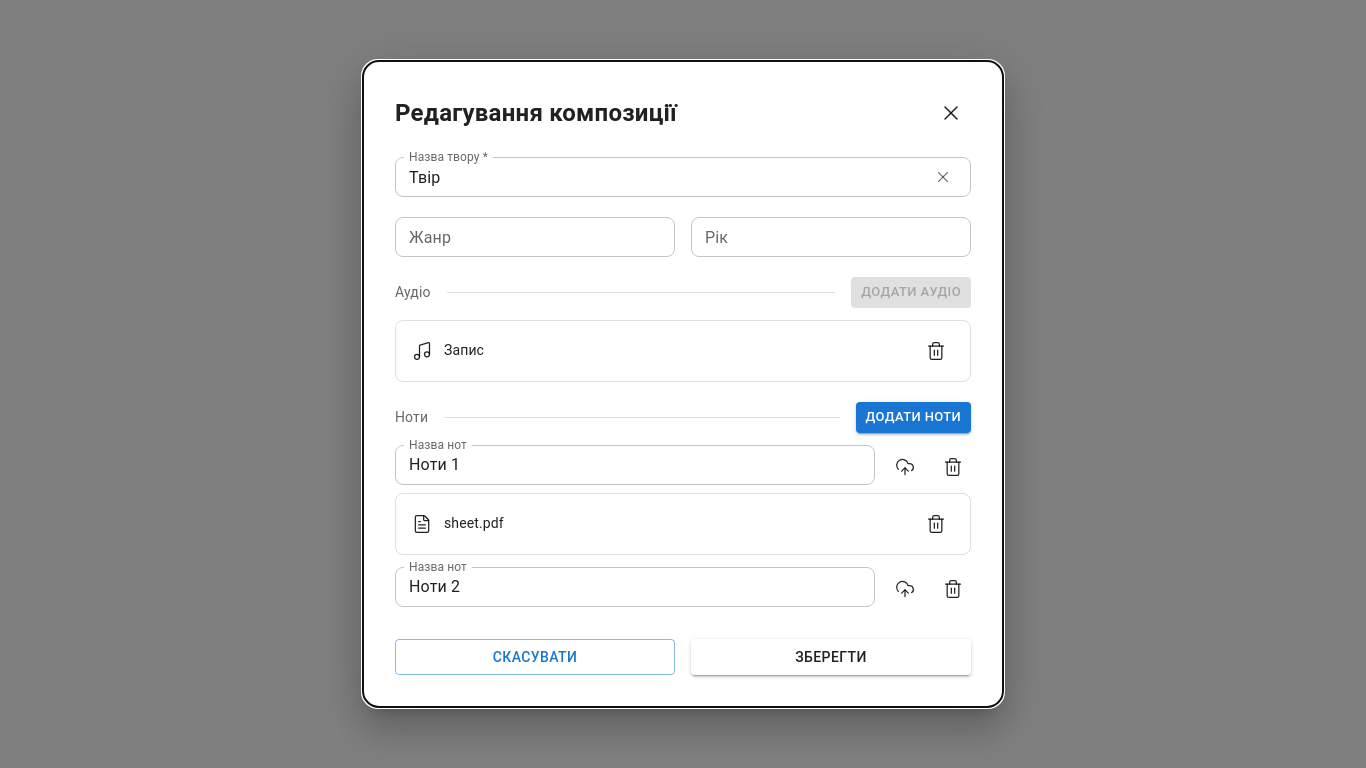
Test: CompositionModal › edits, clears and removes prefilled media
Replace the text in the 1st field showing "Ноти 1" with "Оновлені ноти" at (635, 464), box x1=395 y1=444 x2=875 y2=484
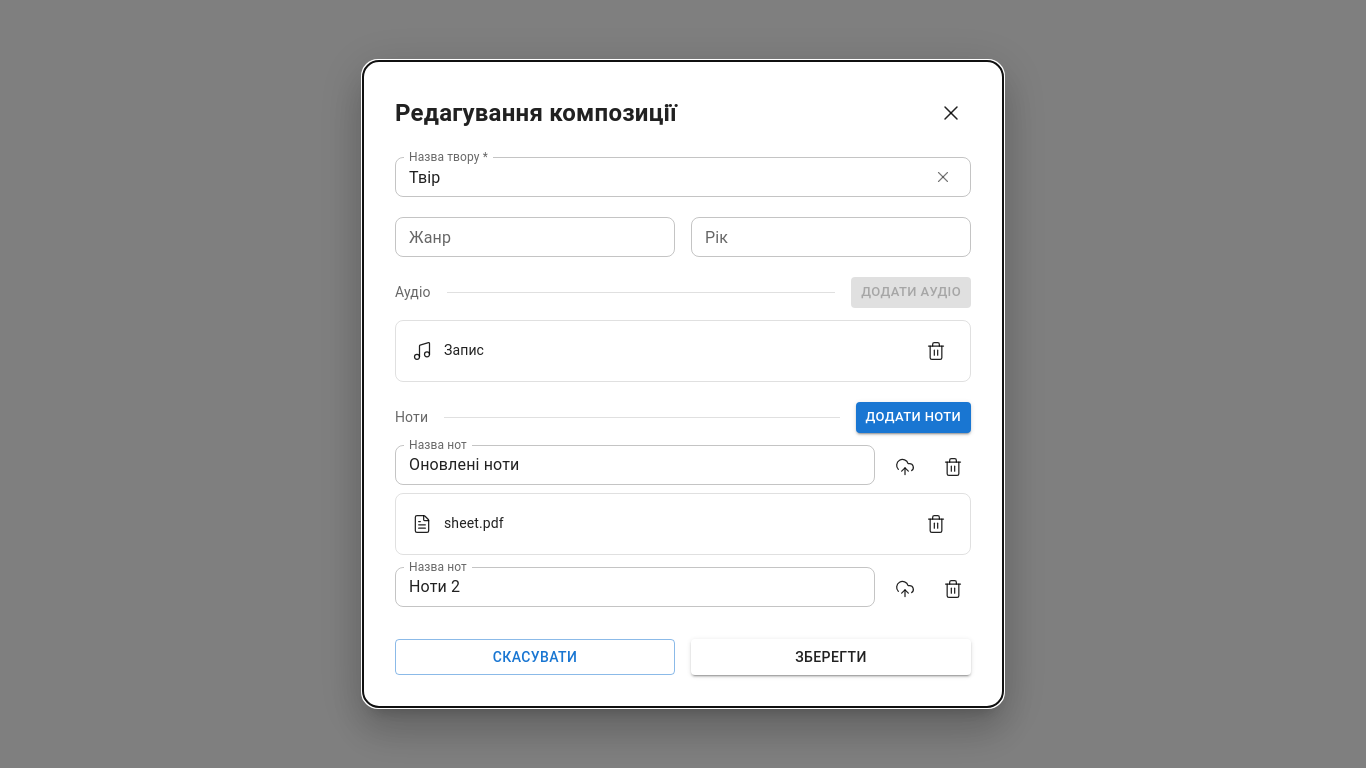
Click the button named "Видалити файл" at (936, 524), box x1=918 y1=506 x2=954 y2=542
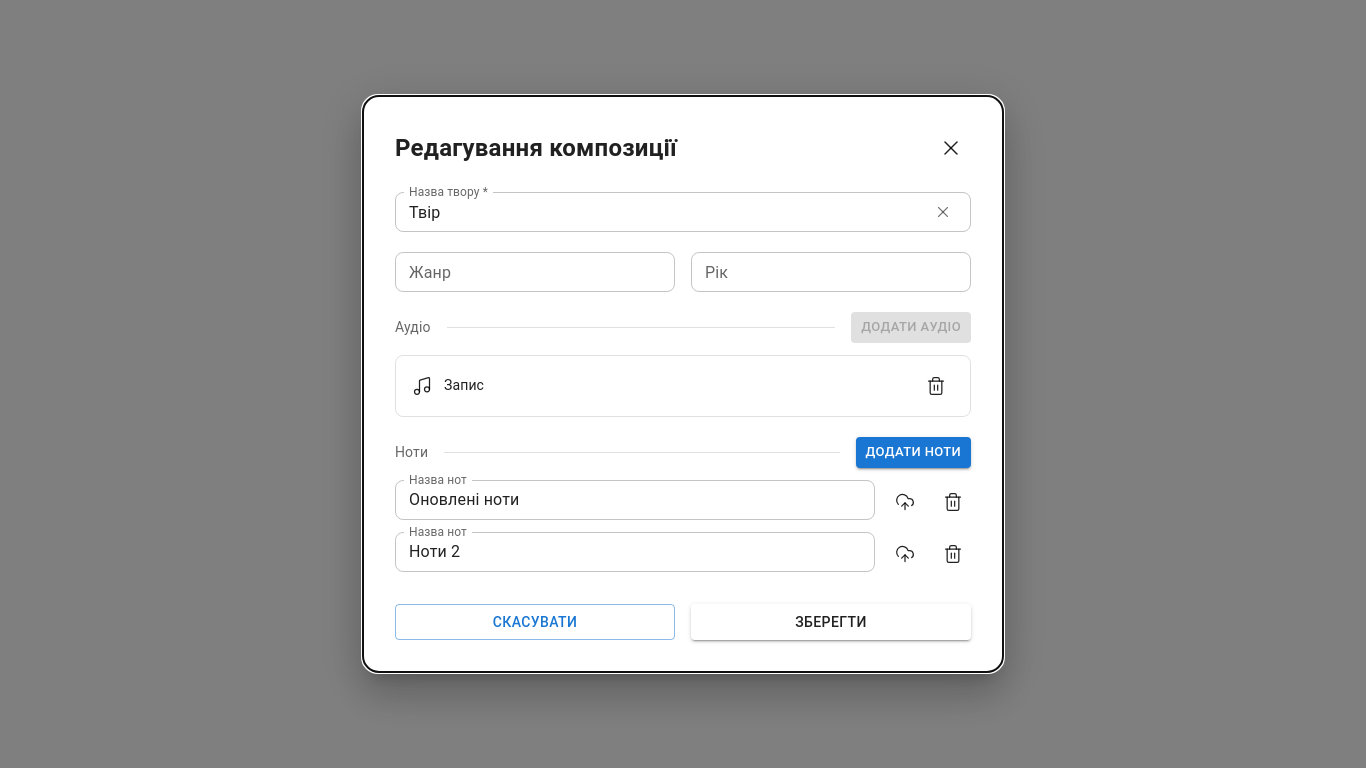
Result: the text "sheet.pdf" is gone
Click the button named "Видалити" in the row of "Запис" at (936, 386), box x1=918 y1=368 x2=954 y2=404
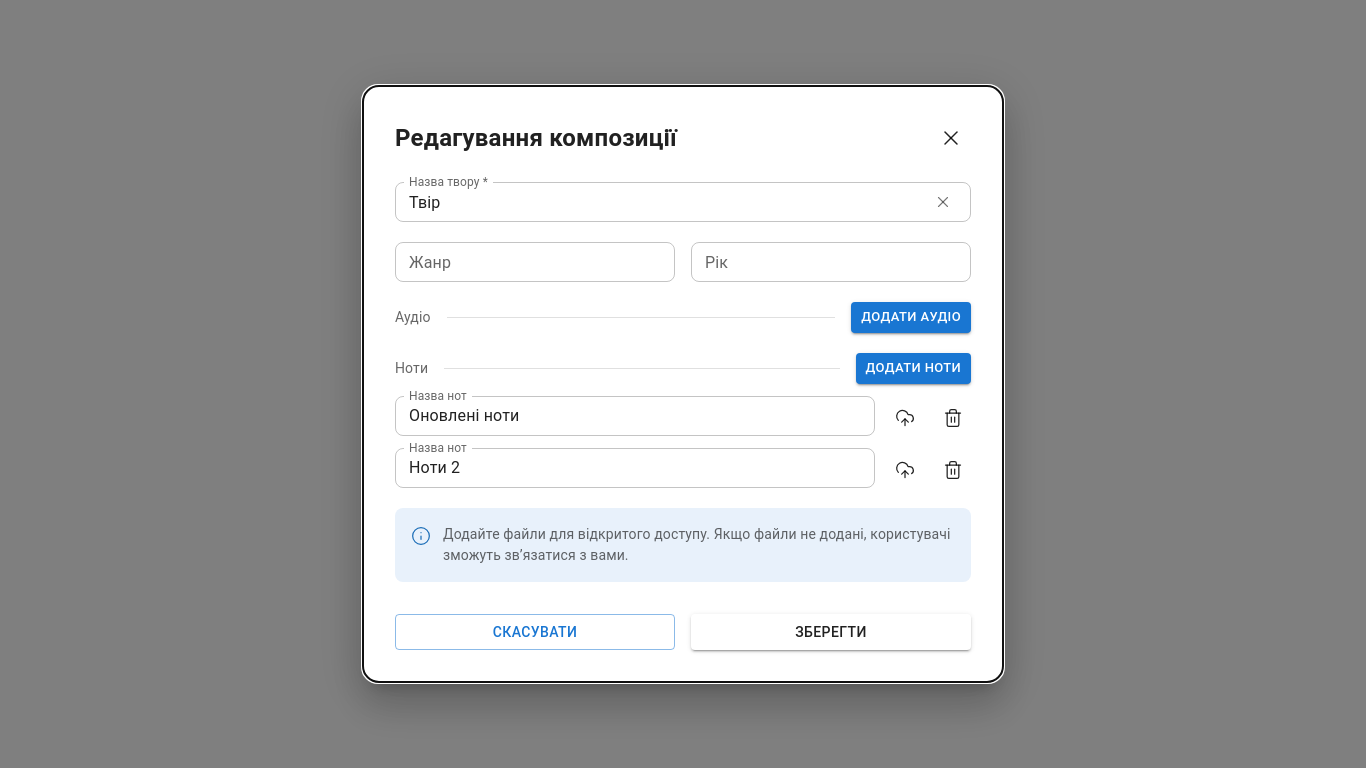
Result: the text "Запис" is gone
